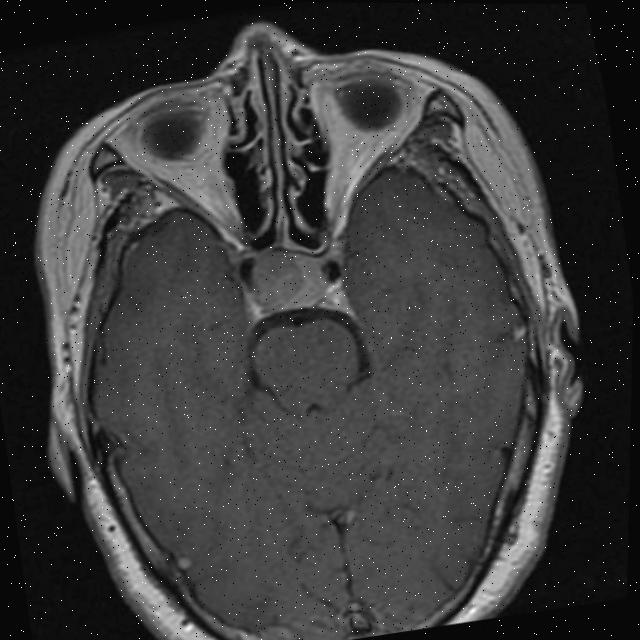Pituitary: (245, 243, 328, 317)
